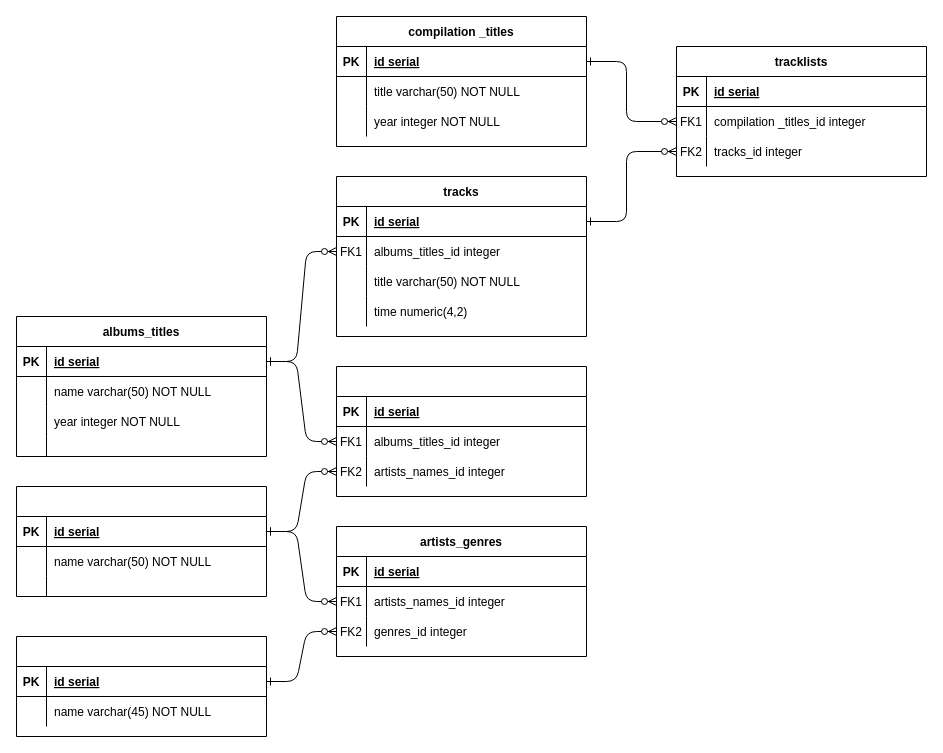
Image size: 943x753. Some labels were removed from this diagram. The box of each missing label's shape, as (x1, y1, x2, y2) in pixels:
albums_artists: (336, 366, 586, 496)
artists_names: (16, 486, 266, 596)
genres: (16, 636, 266, 736)
